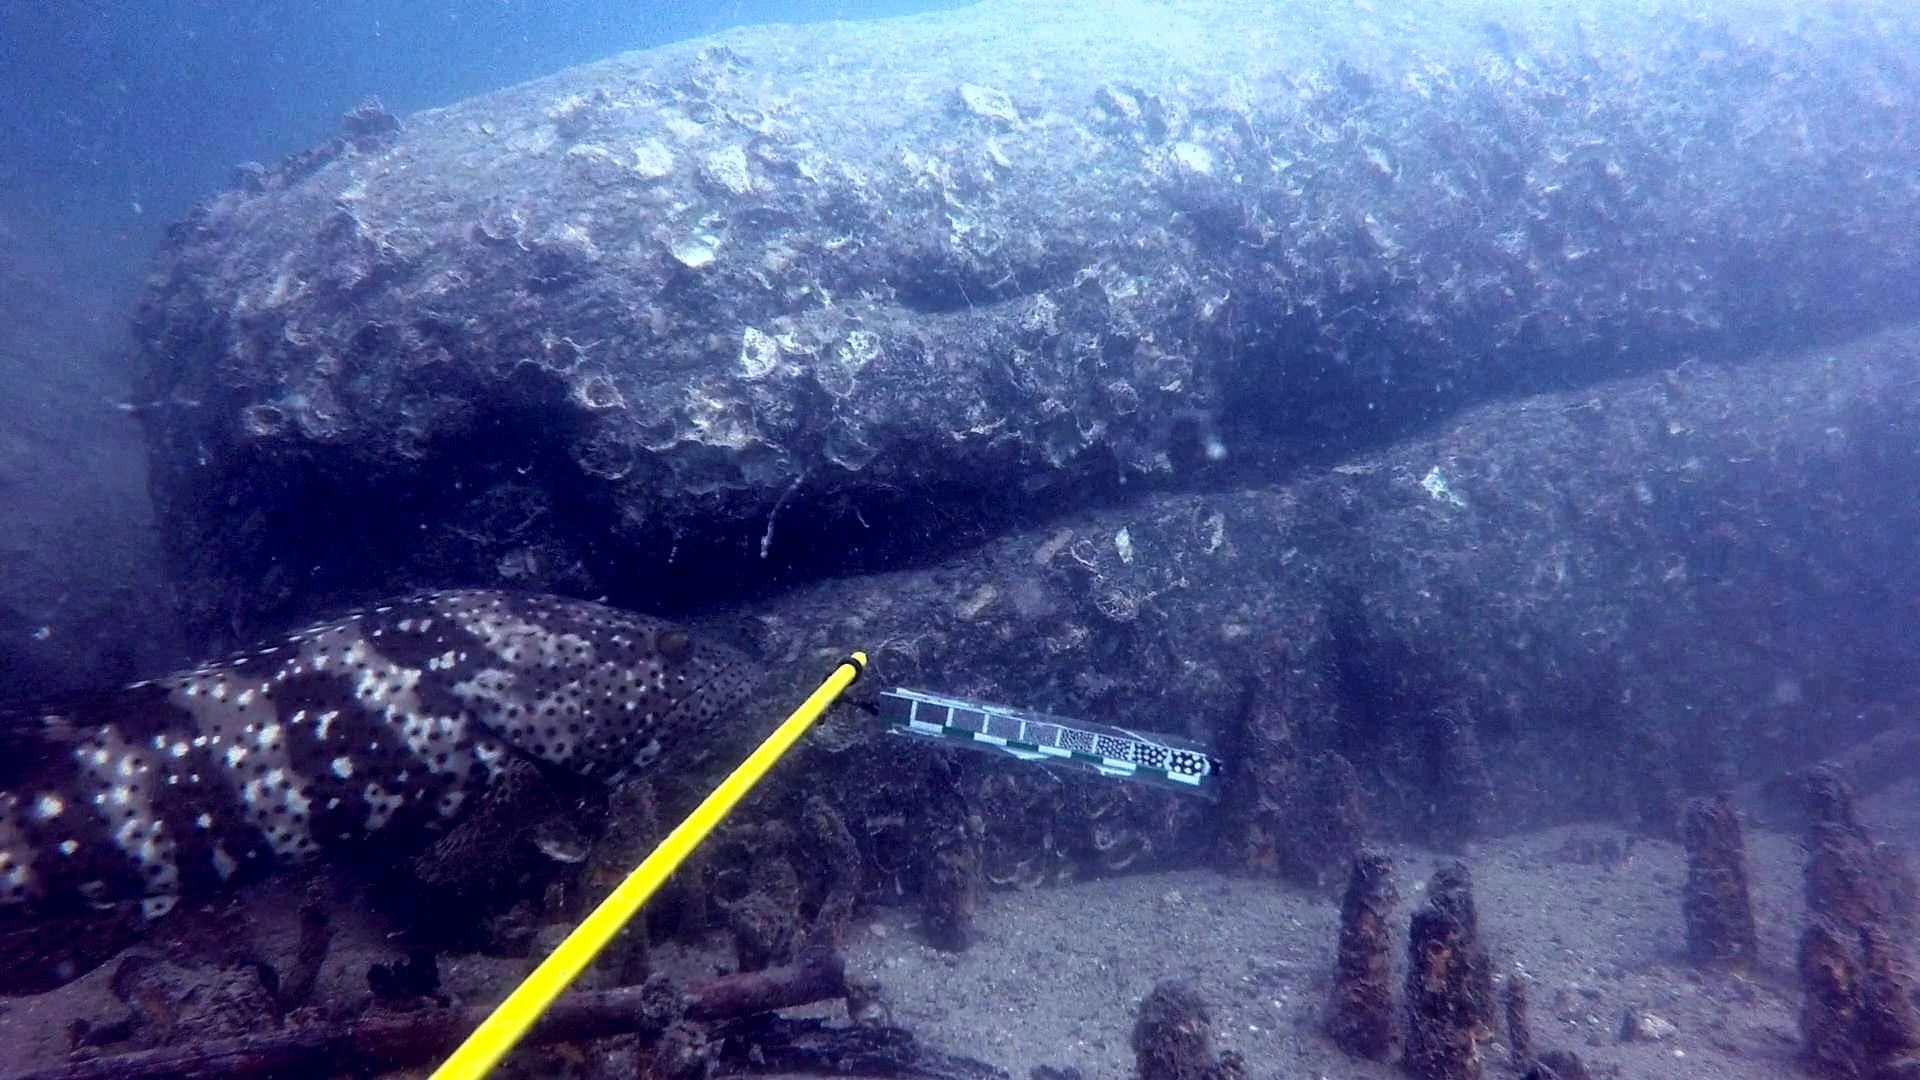epinephelus: (0, 578, 779, 1003)
